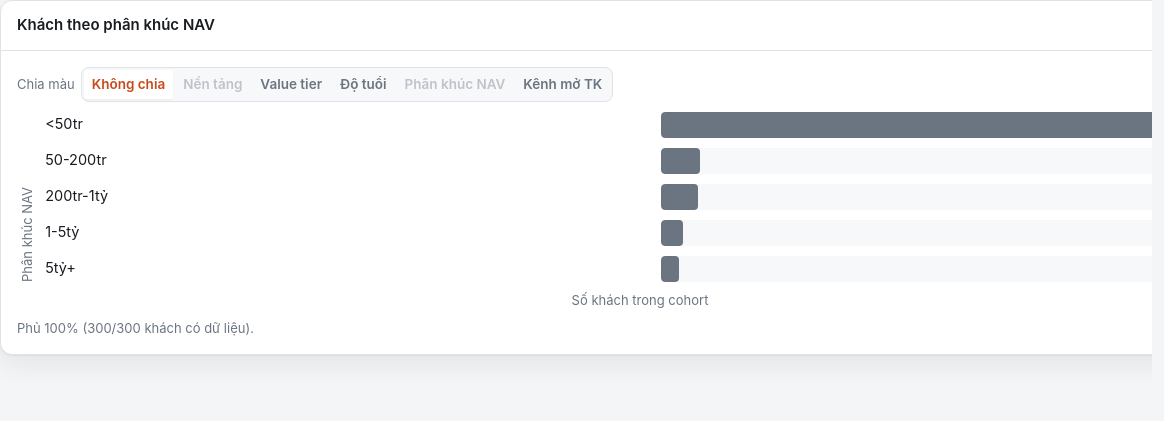
Test: QuantifyWidget — toggle chiều chia màu: nơi không vẽ được đoạn màu › bấm chip đang khoá → lý do hiện thành CHỮ dưới chart, không chỉ nằm trong tooltip
Click the button "Nền tảng" at x=213, y=84, box [175,70,250,98]
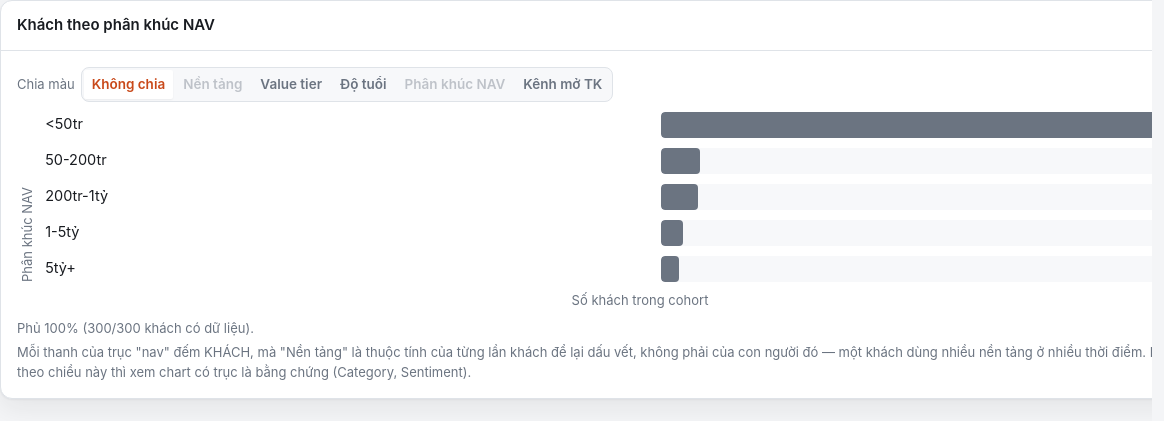
// Đổi sang một chiều bấm được ⇒ câu hỏi đã hết, câu trả lời cũ phải biến mất cùng nó.
Click the button "Độ tuổi" at x=363, y=84, box [332,70,395,98]
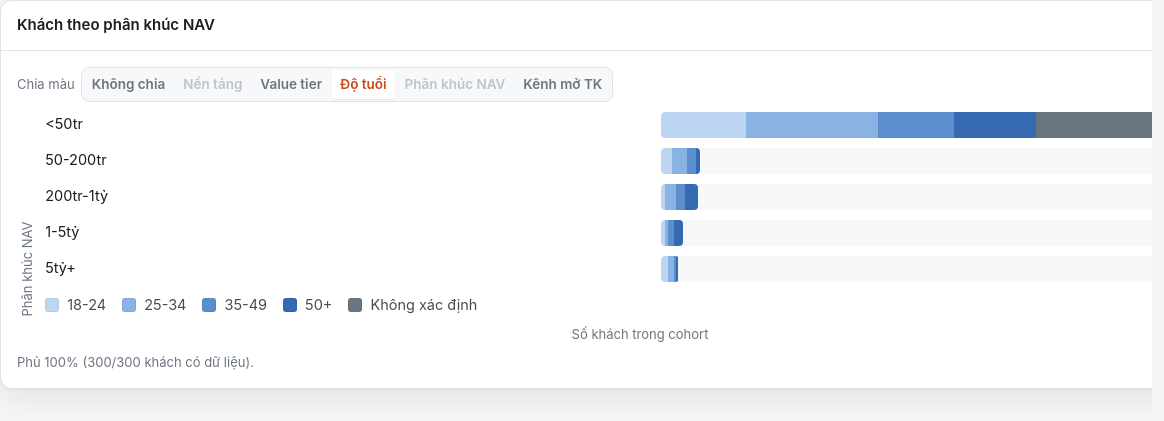
Expected: the text with test id "split-note" is gone
